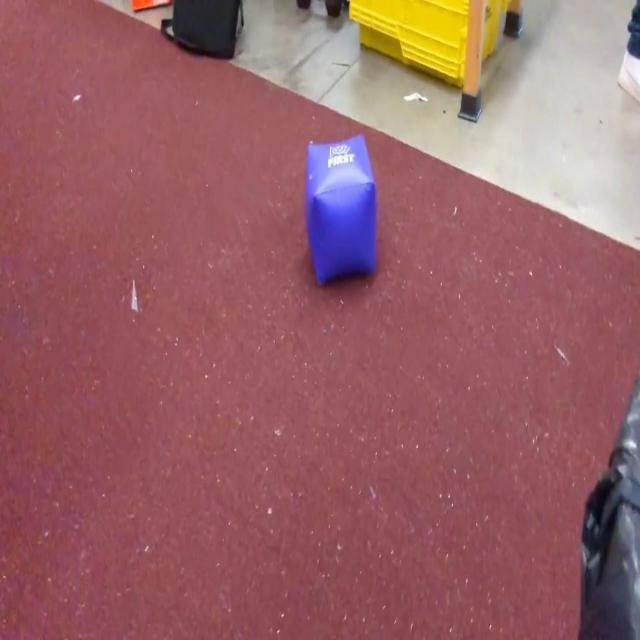frc_cube: (303, 130, 379, 290)
